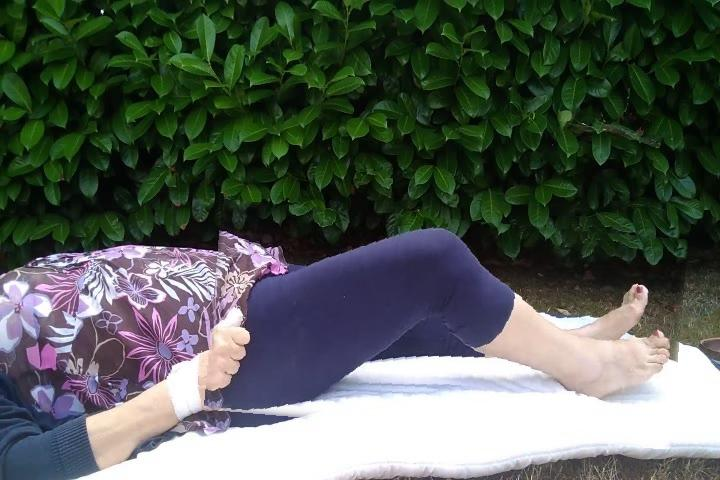lowerbody: (209, 210, 685, 441)
